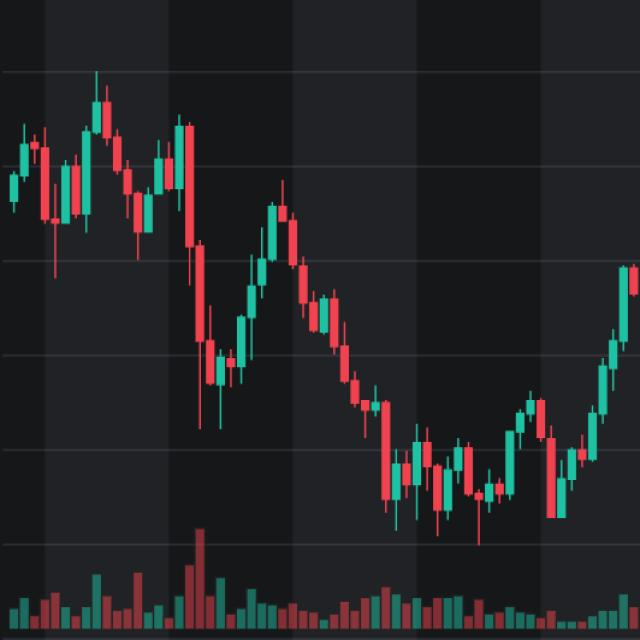Channel-down: (10, 18, 586, 600)
